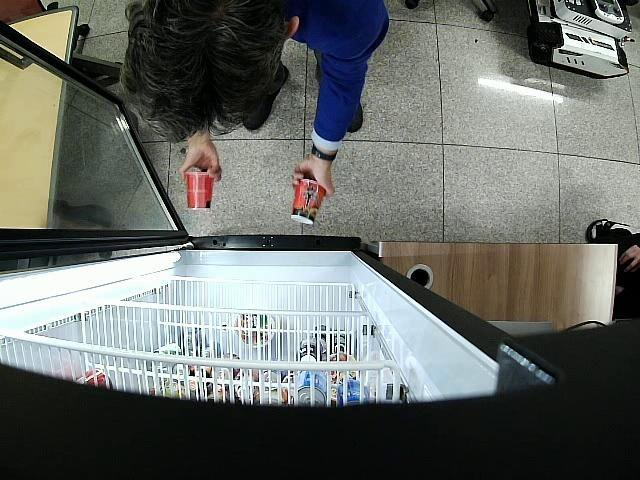02_shinRamen_S: (290, 178, 326, 224), (184, 170, 215, 211)
